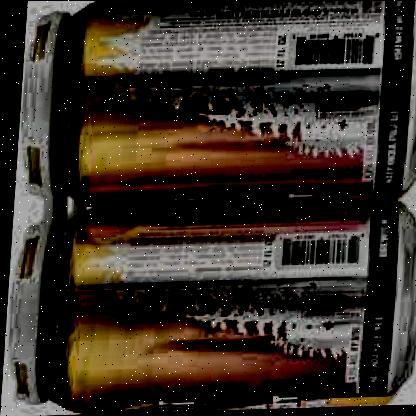Can: (0, 200, 416, 416), (12, 0, 416, 210)
